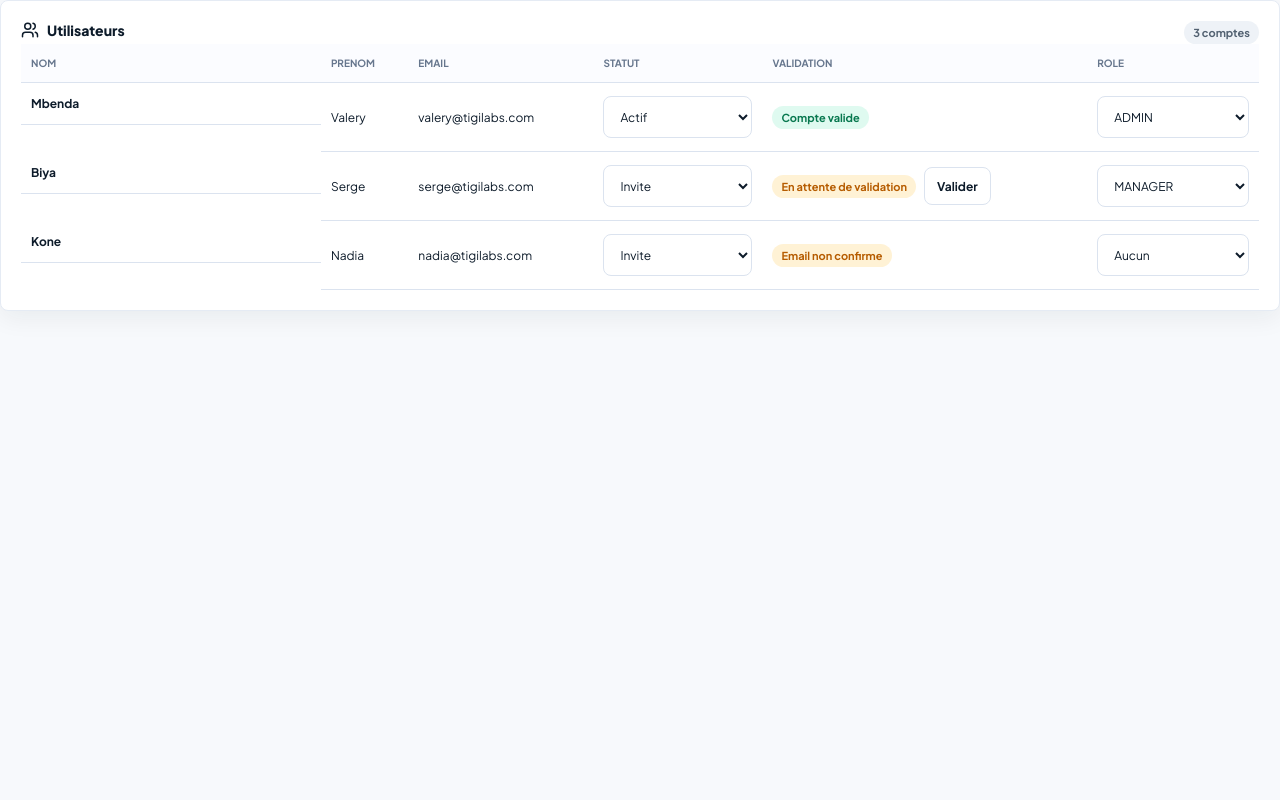
Test case: UsersManagement › updates the role of a user and shows a success toast
The width and height of the screenshot is (1280, 800).
Select "MANAGER" in the dropdown named "Role de Valery Mbenda" at (1173, 117), box x1=1097 y1=96 x2=1249 y2=138
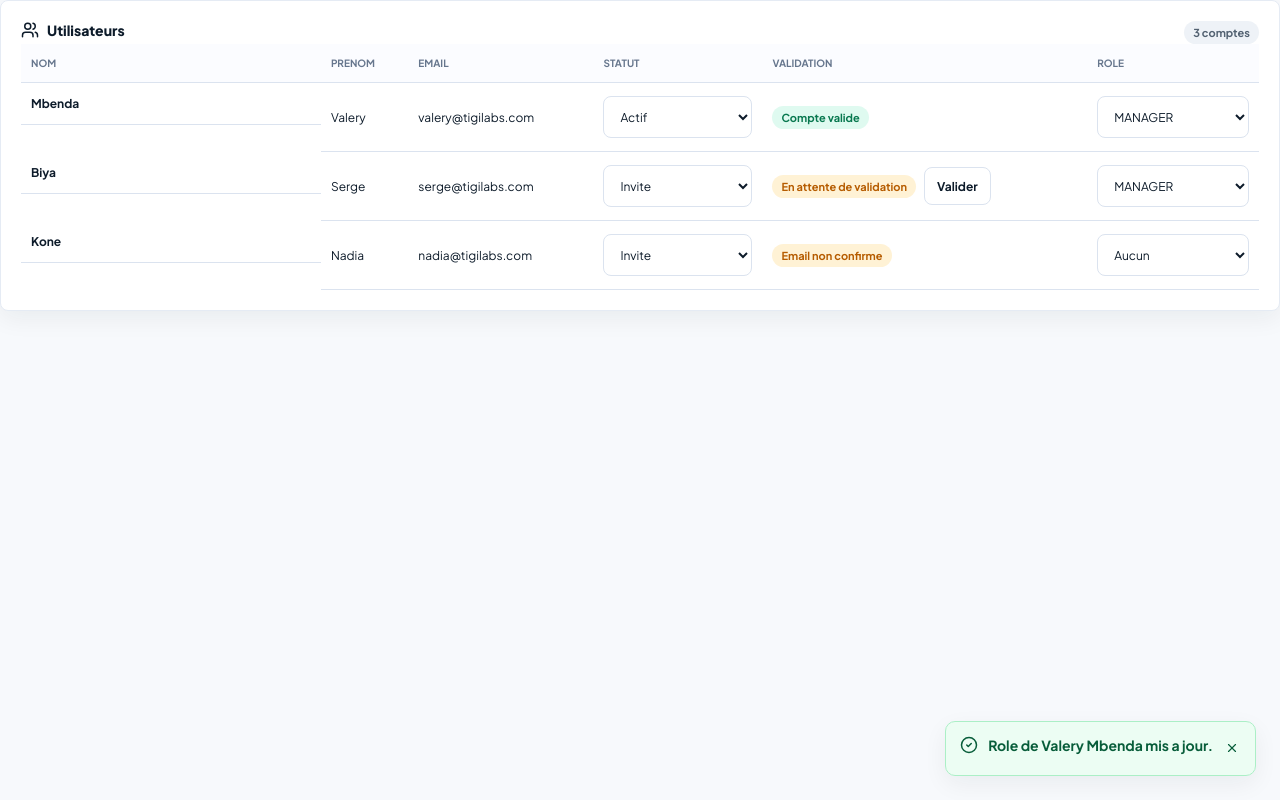
Expected: the text "Role de Valery Mbenda mis a jour." is shown, x1=988 y1=736 x2=1213 y2=754
